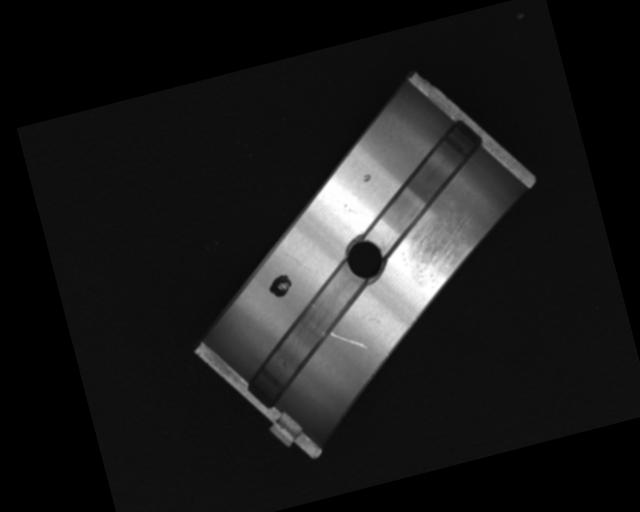blot: (265, 272, 295, 301)
bruise: (361, 173, 372, 183)
gap: (222, 260, 391, 415), (344, 115, 502, 253)
hole: (341, 230, 391, 285)
nick: (329, 322, 369, 357), (282, 244, 311, 281)
scratch: (395, 205, 487, 298)
